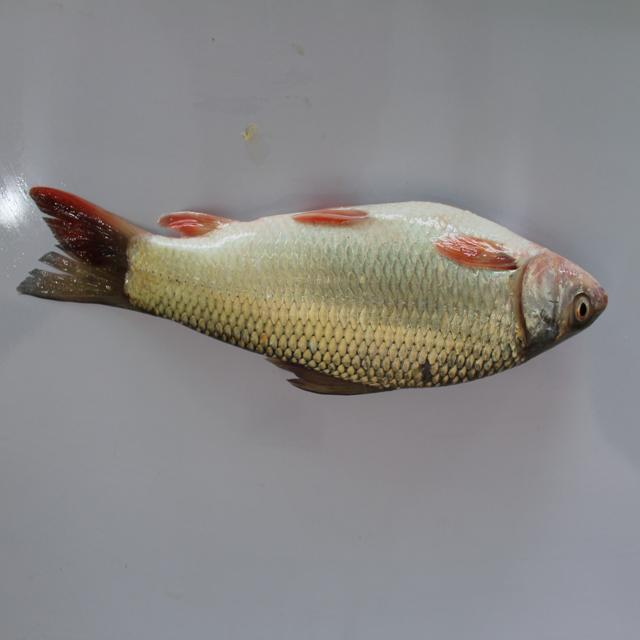Mori: (15, 167, 614, 407)
